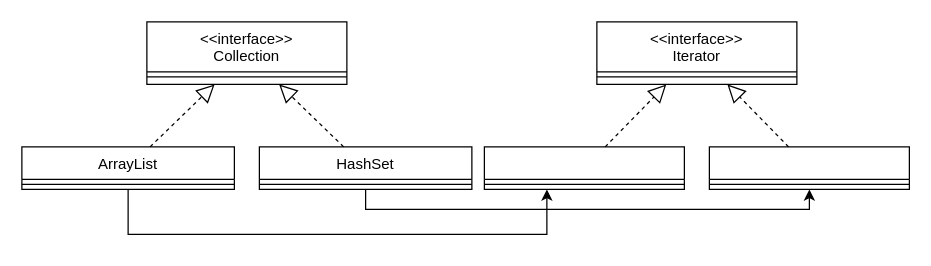
Image size: 931x266. Some labels were removed from this diagram. Each missing label, with the centre of its shape:
ArrayList.Itr: the point at 583,167
HashMap.KeySet: the point at 808,167
